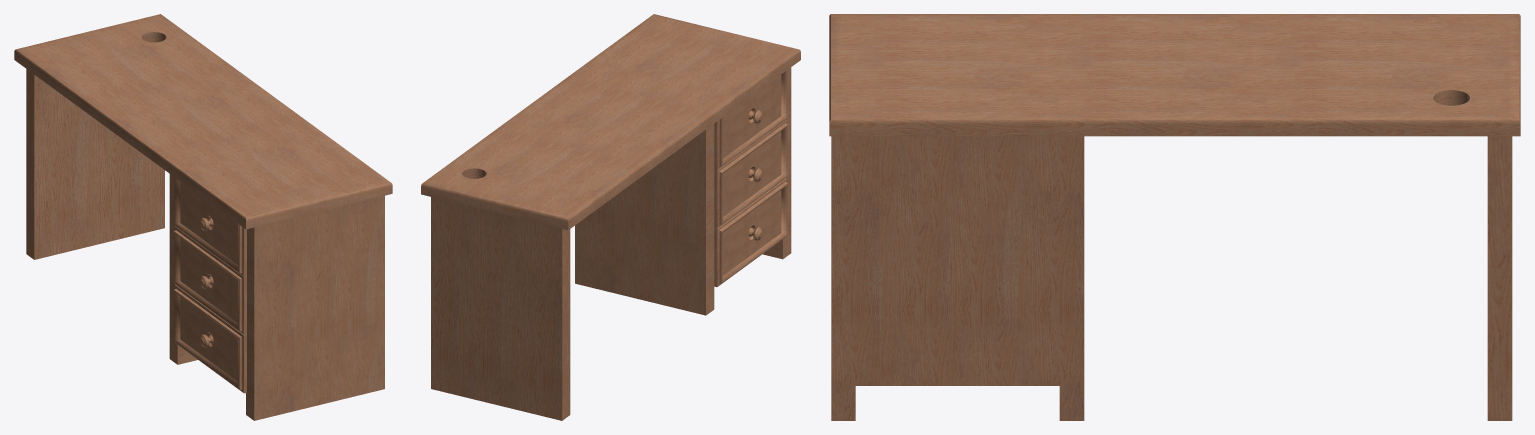
The model's file is SM_Desk.fbx.
3 views of the same model, side by side, from view 1: azimuth 30°, elevation 25°; view 2: azimuth 150°, elevation 25°; view 3: azimuth 270°, elevation 25° (orthographic). The views are drawn at different scales.
Parts seen in each view (by area): view 1: Sphere006, Box002, Box001, Sphere008, Sphere007, Sphere005; view 2: Sphere006, Box001, Box002, Sphere008, Sphere007, Sphere005; view 3: Sphere006, Box002, Box001.
Boxes of the visible parts, x1,y1,x2,y2 form: Sphere006: (14,14,392,229); Box002: (169,174,384,420); Box001: (26,69,164,259); Sphere008: (174,284,246,393); Sphere007: (174,226,246,334); Sphere005: (174,177,246,276); Sphere006: (421,14,800,230); Box001: (431,197,570,420); Box002: (575,67,791,315); Sphere008: (714,178,787,286); Sphere007: (714,120,787,228); Sphere005: (714,70,787,169); Sphere006: (829,14,1520,136); Box002: (831,136,1084,420); Box001: (1487,136,1512,420).
Size of the model in its own units: 29.46 by 38.67 by 79.12.
1 material, 1 textured.
